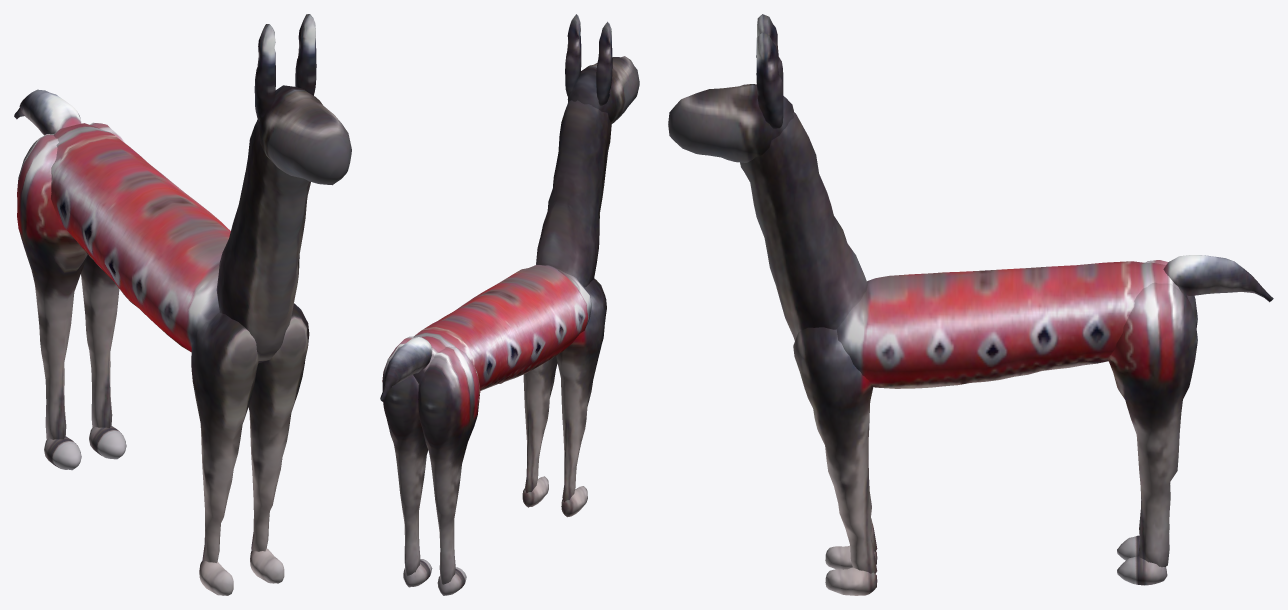
File: royal_lhama_of_the_inca.glb
3 renders of one model, left to right at view 1: azimuth 30°, elevation 25°; view 2: azimuth 150°, elevation 25°; view 3: azimuth 270°, elevation 25°, orthographic. The views are drawn at different scales.
Parts seen in each view (by area): view 1: Object_2; view 2: Object_2; view 3: Object_2.
Boxes of the visible parts, <box> form: Object_2: <box>14,14,351,595</box>; Object_2: <box>380,14,639,595</box>; Object_2: <box>668,14,1273,595</box>.
Size of the model in its own units: 0.1739 by 0.8923 by 0.8742.
1 material, 1 textured.
